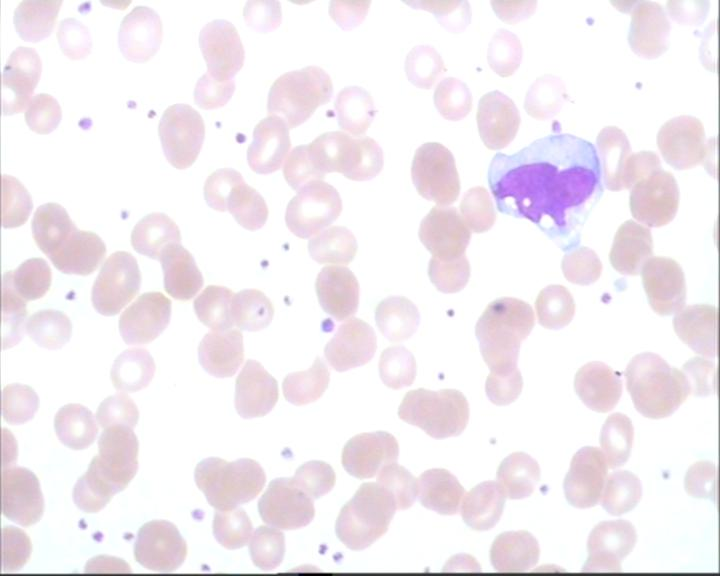mono: (478, 130, 608, 254)
